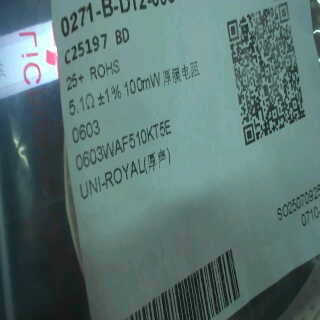5.1R: (66, 93, 96, 117)
